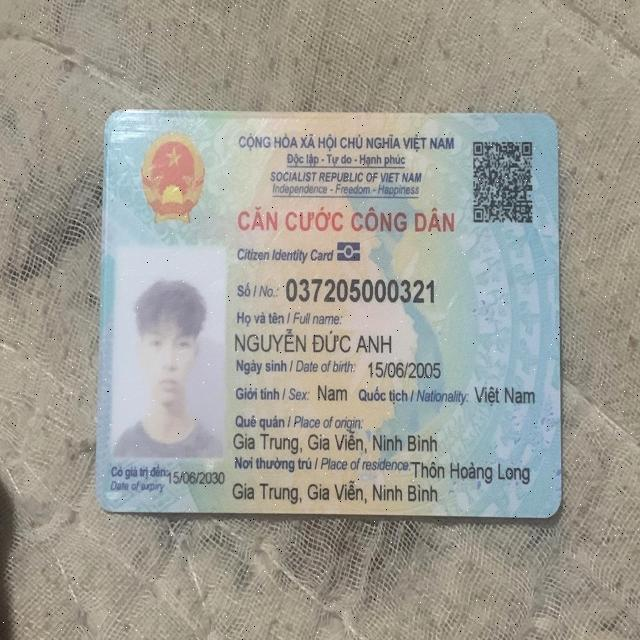current_place: (228, 474, 442, 507), (411, 453, 536, 484)
dob: (364, 357, 442, 382)
expire_date: (165, 468, 227, 486)
gender: (312, 381, 354, 405)
id: (282, 270, 437, 307)
name: (233, 327, 398, 354)
nationality: (471, 376, 538, 413)
origin_place: (231, 425, 442, 454)
